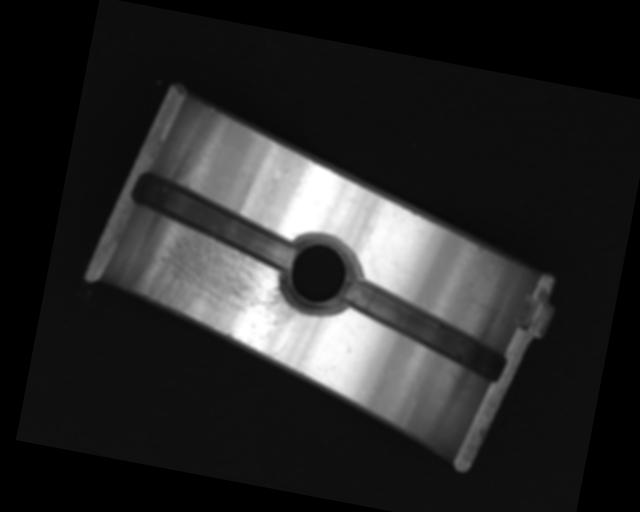gap: (335, 275, 517, 382), (122, 169, 307, 273)
hole: (273, 225, 367, 322)
scratch: (123, 209, 308, 364)
